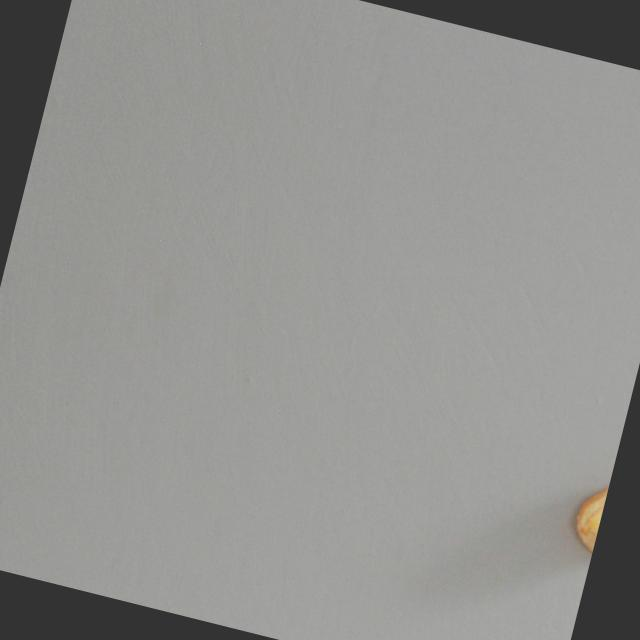pelicula: (566, 452, 615, 556)
